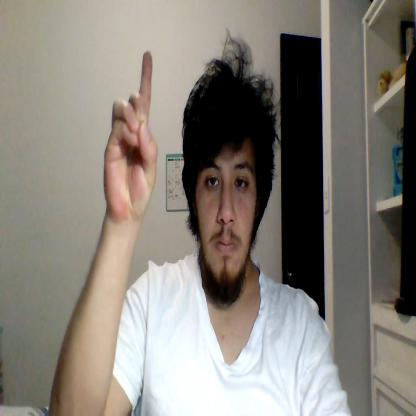D: (104, 48, 158, 224)
